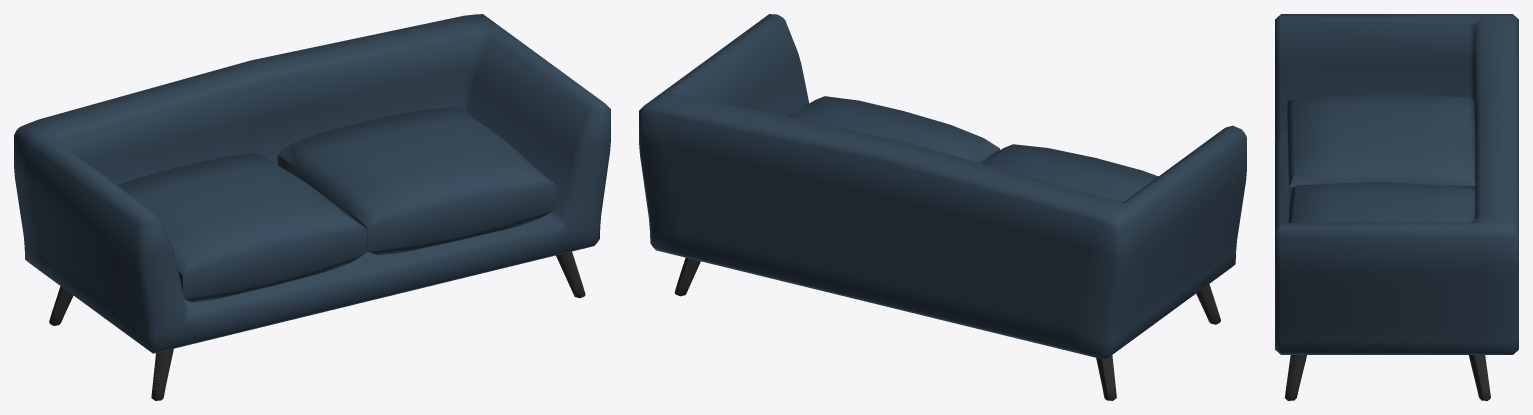
File: TavernCouch-transformed.glb
3 renders of one model, left to right at view 1: azimuth 30°, elevation 25°; view 2: azimuth 150°, elevation 25°; view 3: azimuth 270°, elevation 25°, orthographic. The views are drawn at different scales.
Visible parts, largest first — view 1: Couch_Medium1; view 2: Couch_Medium1; view 3: Couch_Medium1.
Boxes of the visible parts, x1,y1,x2,y2 form: Couch_Medium1: (14, 14, 610, 400); Couch_Medium1: (639, 14, 1246, 400); Couch_Medium1: (1275, 14, 1518, 400).
Size of the model in its own units: 4.69 by 1.91 by 2.2.
